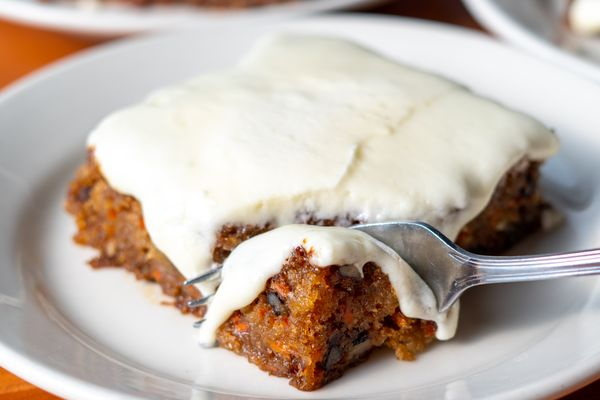burger: (342, 218, 600, 310)
salad: (336, 219, 600, 311)
